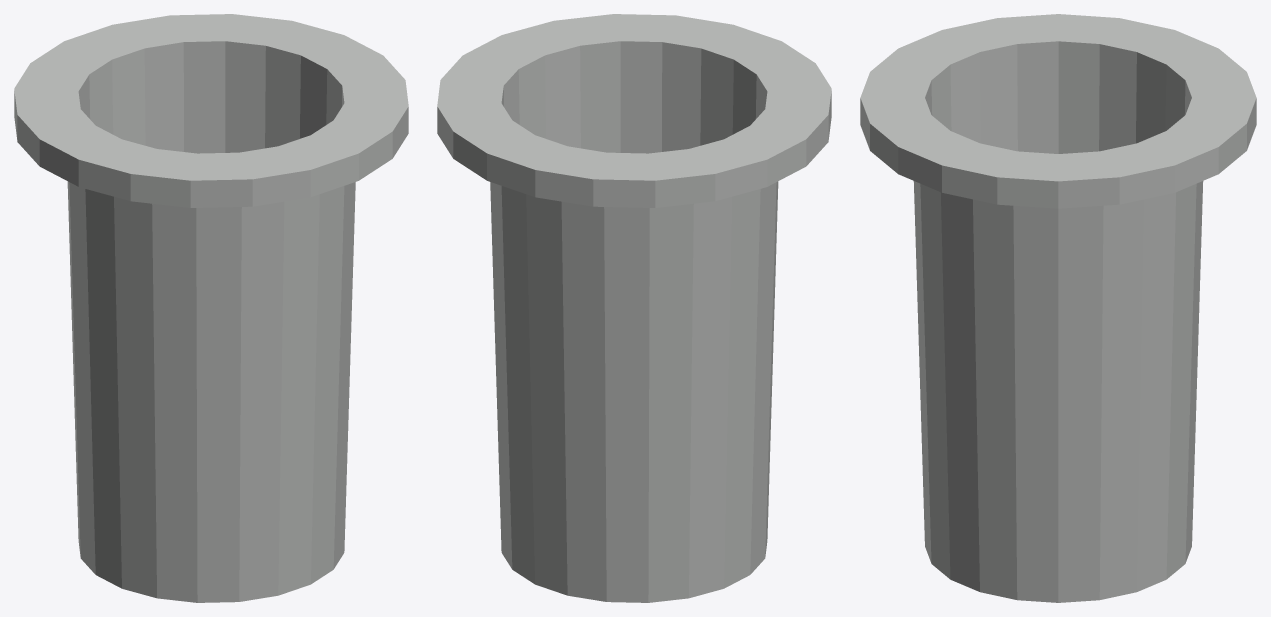
File: SM_Cart_SorbetesDrum_01.fbx
3 renders of one model, left to right at view 1: azimuth 30°, elevation 25°; view 2: azimuth 150°, elevation 25°; view 3: azimuth 270°, elevation 25°, orthographic.
Parts seen in each view (by area): view 1: SM_Cart_SorbetesDrum_01; view 2: SM_Cart_SorbetesDrum_01; view 3: SM_Cart_SorbetesDrum_01.
Part boxes in pixels (<box>): SM_Cart_SorbetesDrum_01: <box>14,14,408,602</box>; SM_Cart_SorbetesDrum_01: <box>437,14,831,602</box>; SM_Cart_SorbetesDrum_01: <box>860,14,1256,602</box>.
Bounding box in the file's own units: 0.184 × 0.23 × 0.184.
1 material, 1 textured.
